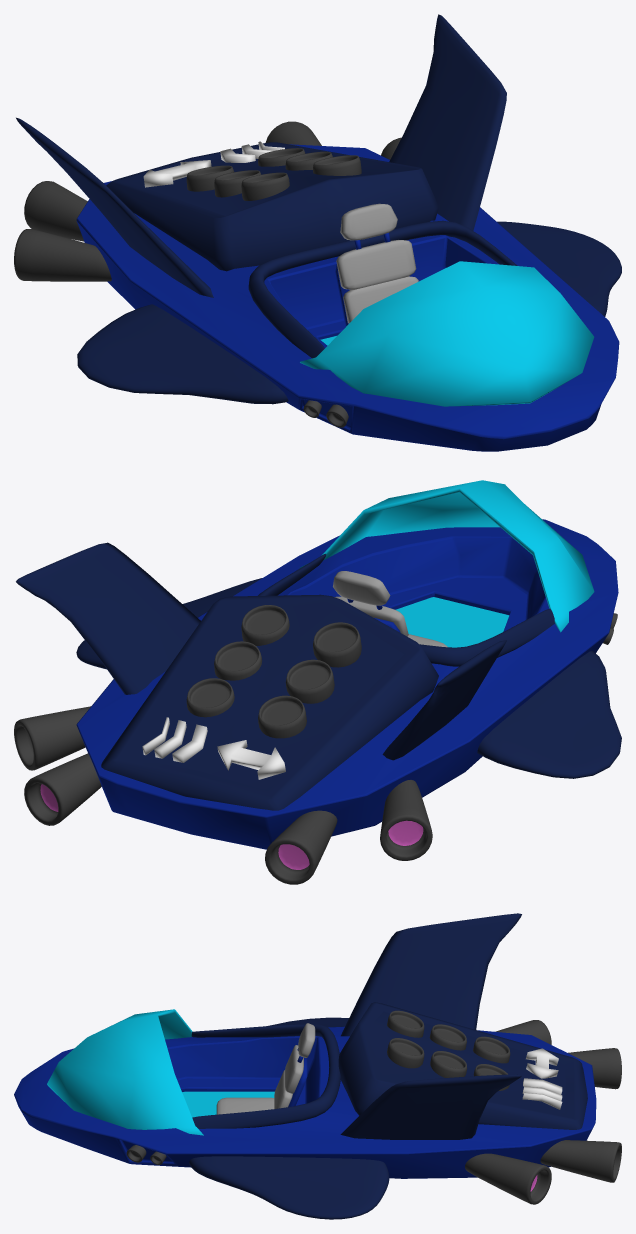
File: cycleEngine_engine_Uv_v5.fbx
3 renders of one model, top to bottom at view 1: azimuth 30°, elevation 25°; view 2: azimuth 150°, elevation 25°; view 3: azimuth 270°, elevation 25°, orthographic. The views are drawn at different scales.
Visible parts, largest first — view 1: Base, visière, Holders, Cube.003, Wings.001, Rockets.003, seat, cockpit.003, Wings, Cube.004, Holders.002, Holders.001 (+2 smaller); view 2: Base, Holders, Cube.003, visière, Wings.001, Holders.002, Rockets.003, Rockets.001, Cube.004, Plane, cockpit.003, Holders.001 (+2 smaller); view 3: Base, visière, Holders, Cube.004, Wings, Cube.003, Rockets.001, Holders.002, cockpit.003, Rockets.003, seat, Holders.001 (+4 smaller).
Boxes of the visible parts, x1=… form: Base: x1=76, y1=144, x2=619, y2=451; visière: x1=300, y1=261, x2=594, y2=406; Holders: x1=106, y1=142, x2=438, y2=271; Cube.003: x1=389, y1=14, x2=506, y2=230; Wings.001: x1=77, y1=304, x2=288, y2=404; Rockets.003: x1=14, y1=181, x2=111, y2=281; seat: x1=335, y1=203, x2=418, y2=326; cockpit.003: x1=248, y1=220, x2=517, y2=358; Wings: x1=497, y1=221, x2=621, y2=316; Cube.004: x1=16, y1=117, x2=213, y2=297; Holders.002: x1=186, y1=148, x2=361, y2=200; Holders.001: x1=143, y1=141, x2=284, y2=187; Base: x1=76, y1=519, x2=618, y2=849; Holders: x1=101, y1=594, x2=438, y2=810; Cube.003: x1=16, y1=542, x2=200, y2=694; visière: x1=300, y1=480, x2=594, y2=632; Wings.001: x1=477, y1=651, x2=621, y2=778; Holders.002: x1=186, y1=605, x2=361, y2=738; Rockets.003: x1=265, y1=780, x2=432, y2=884; Rockets.001: x1=14, y1=706, x2=101, y2=825; Cube.004: x1=382, y1=640, x2=506, y2=760; Plane: x1=395, y1=597, x2=509, y2=647; cockpit.003: x1=258, y1=553, x2=554, y2=666; Holders.001: x1=142, y1=717, x2=285, y2=779; Base: x1=14, y1=1026, x2=596, y2=1178; visière: x1=47, y1=1009, x2=203, y2=1135; Holders: x1=338, y1=1002, x2=587, y2=1129; Cube.004: x1=341, y1=913, x2=521, y2=1036; Wings: x1=189, y1=1156, x2=389, y2=1219; Cube.003: x1=340, y1=1074, x2=521, y2=1139; Rockets.001: x1=465, y1=1140, x2=621, y2=1204; Holders.002: x1=387, y1=1010, x2=510, y2=1090; cockpit.003: x1=191, y1=1023, x2=340, y2=1128; Rockets.003: x1=495, y1=1020, x2=621, y2=1089; seat: x1=274, y1=1023, x2=315, y2=1108; Holders.001: x1=522, y1=1048, x2=562, y2=1109.
Bounding box in the file's own units: 511 × 167 × 658.
